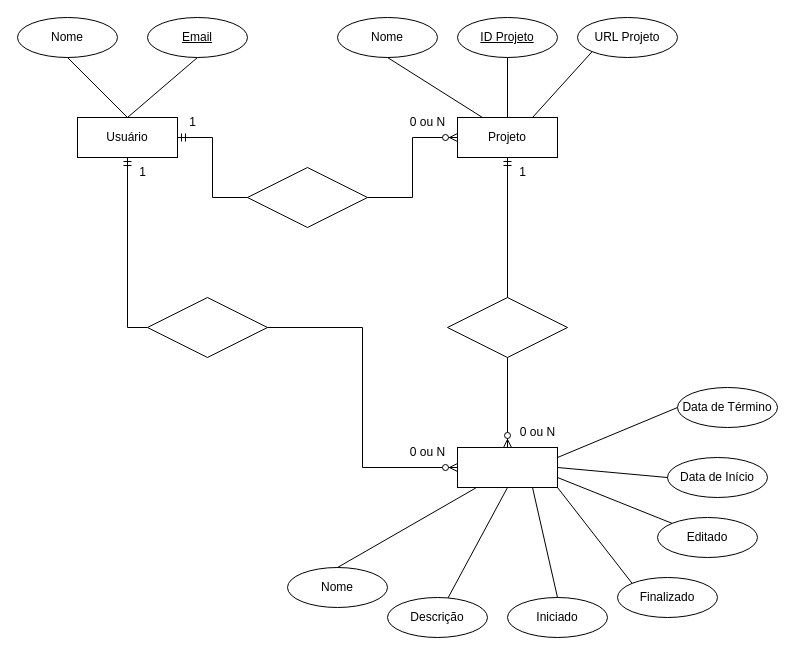
The diagram is 795 pixels wide and 655 high, and some of its shapes have lost their labels. Here are the shapes that lost their labels. From the top down, the centre of each, then its label:
the point at 307,197: Cria Projeto
the point at 207,327: Tem tarefa
the point at 507,327: Cria tarefa
the point at 507,467: Tarefa
